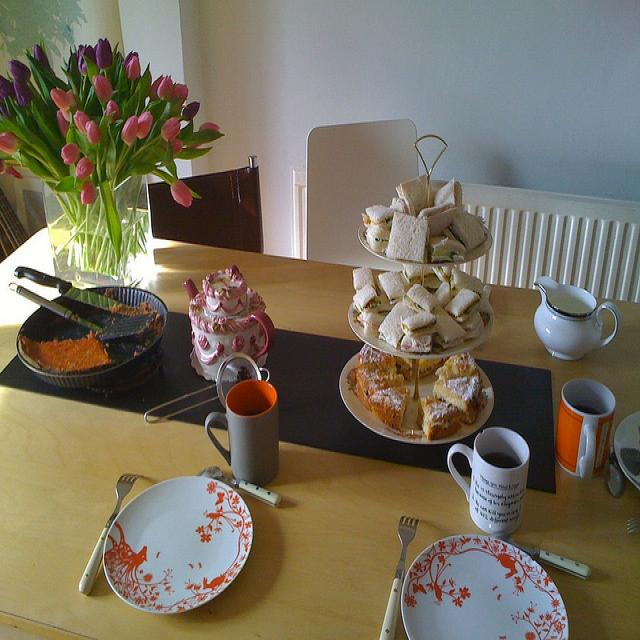chair: (307, 122, 425, 267), (148, 154, 265, 252)
